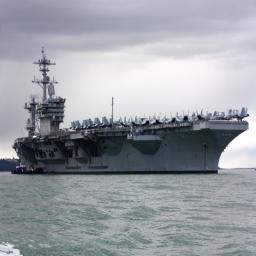Portanaves: (11, 46, 252, 177)
